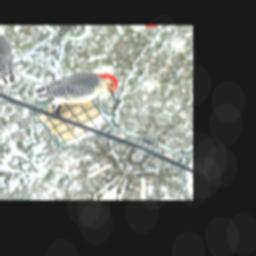Woodpecker: (26, 54, 127, 132)
